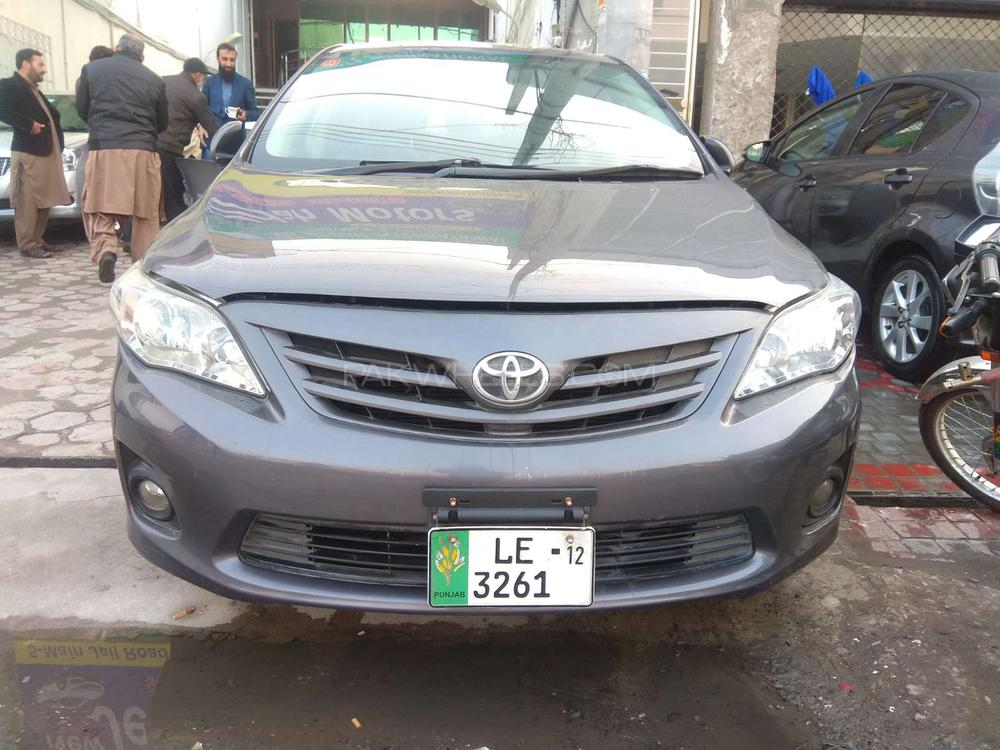License-Plate: (421, 524, 604, 613)
